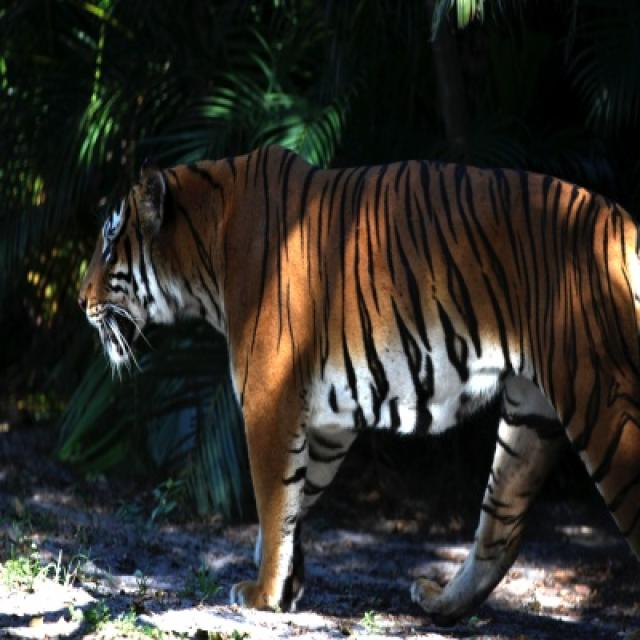Tiger: (82, 138, 638, 613)
